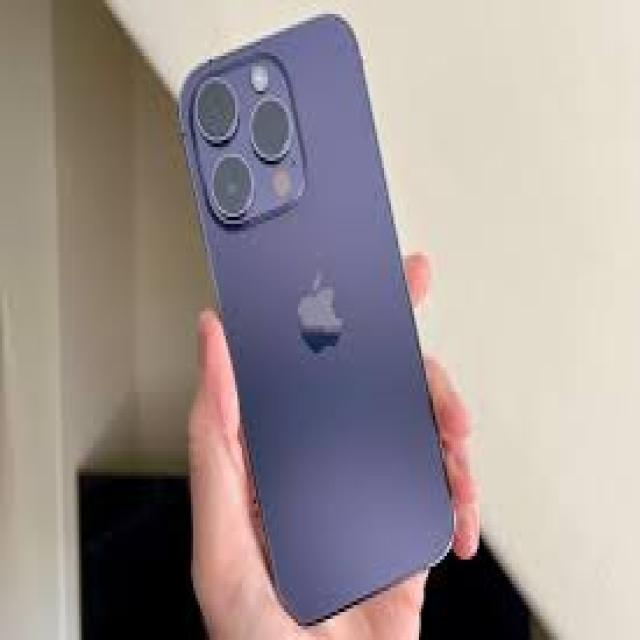phone: (165, 3, 472, 639)
